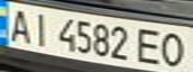2: (109, 23, 136, 62)
4: (51, 15, 78, 52)
5: (72, 18, 93, 55)
8: (90, 20, 112, 58)
A: (3, 6, 36, 44)
E: (133, 26, 166, 66)
I: (27, 10, 54, 47)
O: (154, 29, 190, 69)
